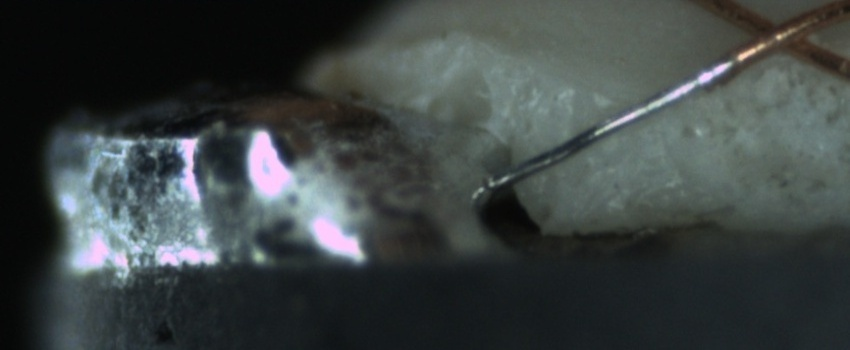CL: (726, 2, 830, 67)
TS: (485, 53, 738, 193)
